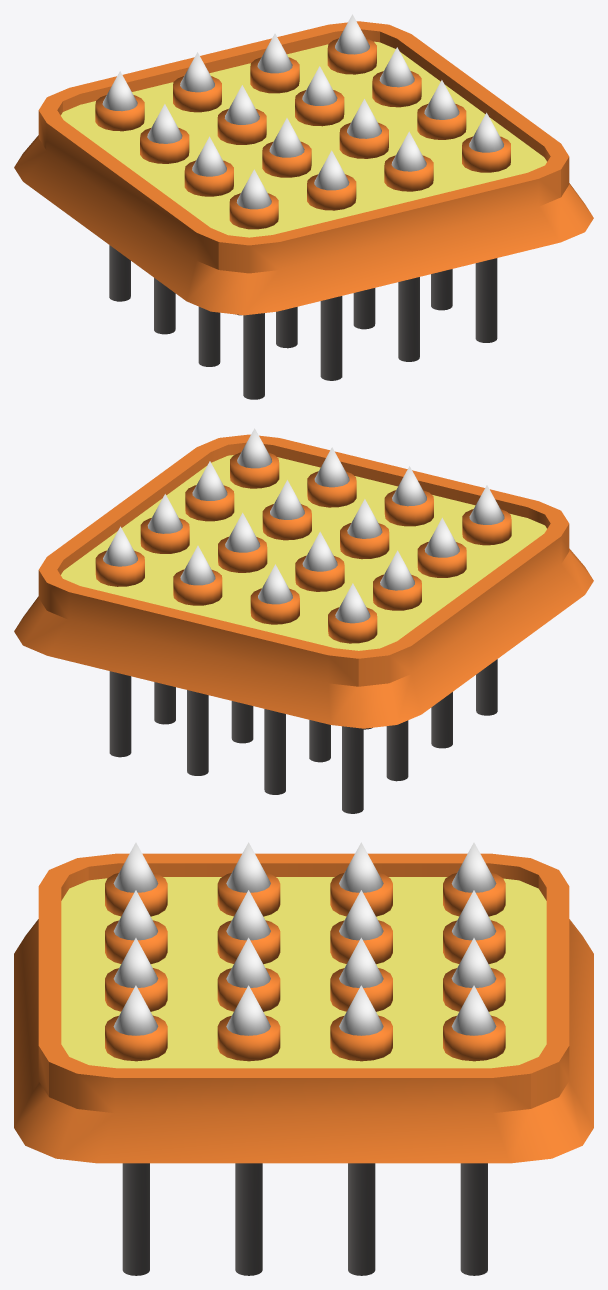
The model's file is Obstacle 6 V3.fbx.
The picture shows the model from 3 angles, top to bottom: view 1: azimuth 30°, elevation 25°; view 2: azimuth 150°, elevation 25°; view 3: azimuth 270°, elevation 25°; orthographic projection. The views are drawn at different scales.
Parts seen in each view (by area): view 1: O6 Part 1, O6 Part 2; view 2: O6 Part 1, O6 Part 2; view 3: O6 Part 1, O6 Part 2.
Part boxes in pixels (box(x1,y1,x2,y2)): O6 Part 1: box(14, 21, 593, 315); O6 Part 2: box(95, 14, 510, 399); O6 Part 1: box(14, 434, 593, 728); O6 Part 2: box(95, 428, 511, 813); O6 Part 1: box(14, 853, 593, 1163); O6 Part 2: box(105, 842, 505, 1275).
Bounding box in the file's own units: 125 × 67.55 × 125.
Materials: 1 (1 with a texture image).
